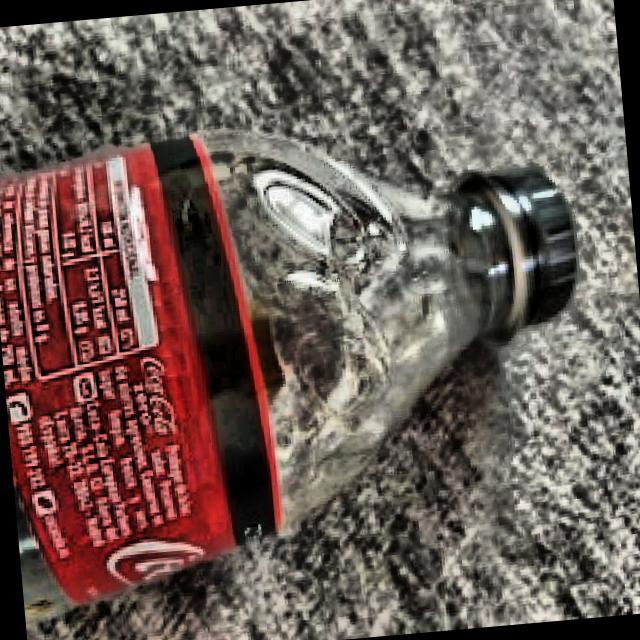plastic bottle: (0, 133, 578, 613)
